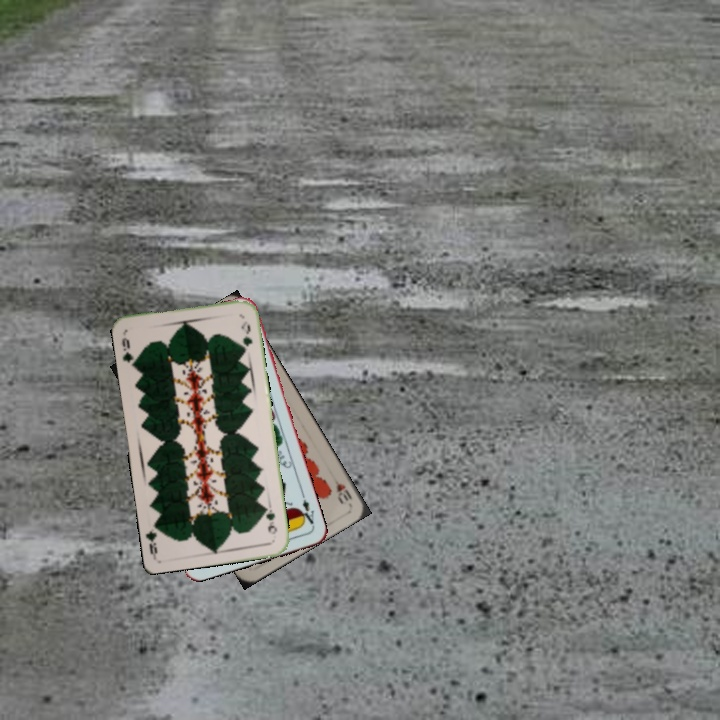EA: (295, 495, 317, 529)
G9: (118, 334, 139, 370), (261, 500, 280, 537)
H10: (327, 471, 355, 507)
